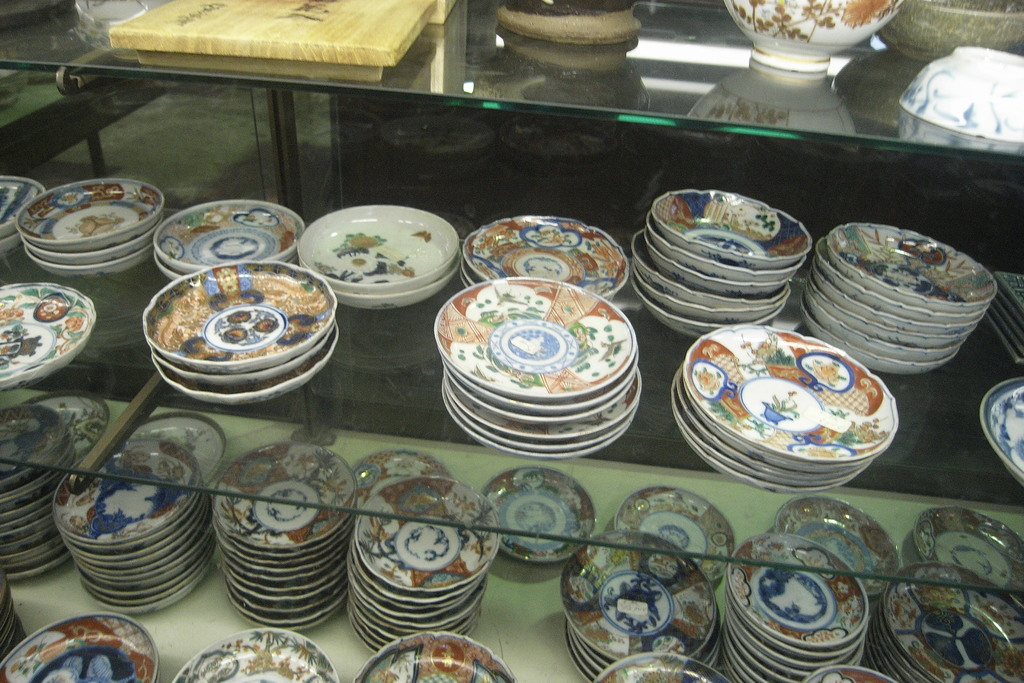plate: (696, 326, 894, 461)
